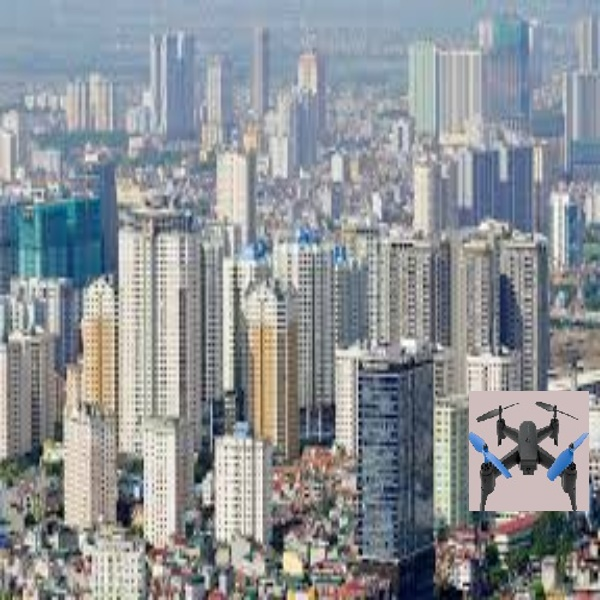drone: (467, 390, 585, 513)
